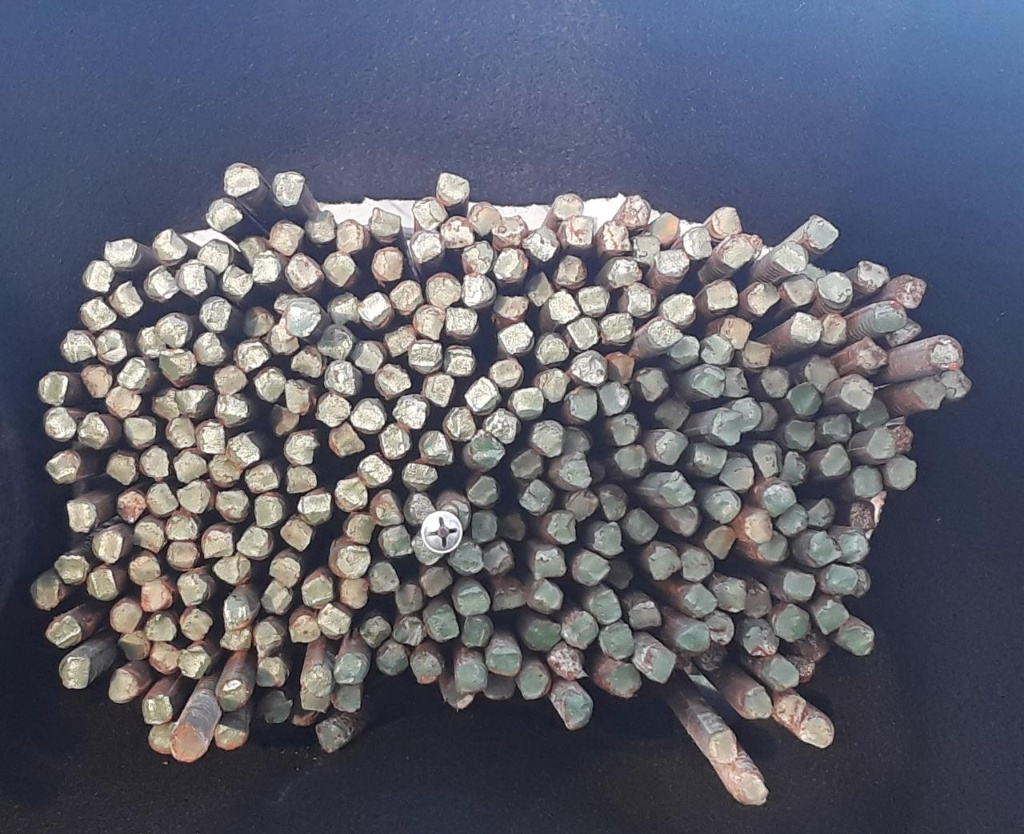dipstick: (548, 641, 586, 680), (171, 723, 208, 763), (469, 432, 506, 469), (288, 297, 322, 337), (442, 405, 478, 442), (464, 376, 500, 413), (527, 579, 564, 615), (562, 611, 598, 648), (152, 228, 188, 264), (572, 552, 609, 587), (807, 530, 842, 567), (158, 312, 193, 348), (523, 225, 558, 261), (521, 619, 561, 650), (322, 251, 357, 286), (172, 448, 207, 483), (393, 395, 428, 430), (199, 296, 233, 332), (46, 615, 82, 649), (255, 691, 291, 725), (283, 432, 319, 466), (420, 430, 454, 466), (601, 624, 635, 660), (776, 605, 810, 641), (626, 507, 659, 544), (562, 692, 594, 730), (223, 162, 258, 196), (286, 254, 321, 288), (319, 325, 354, 359), (329, 423, 364, 457), (426, 272, 460, 307), (519, 480, 553, 515), (269, 219, 302, 255), (237, 527, 273, 560), (571, 352, 607, 385), (644, 647, 677, 683), (773, 242, 809, 275), (806, 355, 839, 391), (485, 410, 522, 442), (461, 273, 495, 307), (661, 471, 695, 505), (177, 261, 210, 296), (194, 420, 227, 455), (217, 678, 250, 713), (180, 606, 213, 641), (278, 518, 313, 551), (319, 603, 352, 638), (337, 544, 370, 579), (518, 665, 551, 700), (655, 395, 690, 428), (712, 577, 745, 612), (800, 716, 835, 749), (835, 531, 870, 564), (747, 282, 780, 317), (930, 335, 963, 370), (207, 198, 243, 230), (649, 545, 681, 581), (705, 490, 741, 522), (816, 271, 852, 303), (78, 412, 109, 449), (272, 172, 305, 206), (199, 239, 232, 273), (215, 489, 248, 523), (328, 292, 361, 326), (351, 399, 385, 432), (495, 248, 528, 282), (175, 384, 210, 416), (391, 279, 423, 314), (535, 331, 570, 363), (108, 668, 139, 704), (333, 653, 369, 684), (427, 606, 458, 642), (373, 246, 404, 282), (610, 662, 641, 698), (717, 236, 753, 267), (214, 554, 251, 584), (599, 482, 627, 521), (624, 284, 657, 317), (534, 546, 567, 579), (721, 459, 754, 492), (194, 332, 226, 366), (176, 574, 208, 608), (335, 478, 367, 512), (358, 455, 392, 487), (445, 307, 479, 339), (413, 197, 447, 229), (436, 172, 470, 204), (561, 456, 593, 490), (613, 445, 647, 477), (816, 600, 848, 634), (782, 274, 816, 306), (841, 375, 873, 409), (325, 361, 356, 396), (411, 532, 442, 567), (532, 421, 563, 456), (591, 590, 622, 625), (160, 349, 196, 379), (498, 323, 534, 353), (111, 283, 143, 316), (178, 481, 210, 514), (210, 455, 242, 488), (228, 433, 260, 466), (301, 575, 334, 607), (410, 230, 443, 262), (567, 318, 599, 351), (601, 313, 634, 345), (694, 443, 727, 475), (692, 365, 725, 397), (61, 331, 95, 362), (96, 330, 127, 364), (47, 452, 81, 483), (59, 656, 90, 690), (298, 493, 332, 524), (377, 363, 411, 394), (414, 305, 445, 339), (441, 216, 475, 247), (470, 202, 501, 236), (511, 387, 545, 418), (705, 525, 736, 559), (656, 431, 687, 465), (215, 395, 250, 425), (493, 582, 528, 612), (676, 622, 711, 652), (938, 369, 973, 399), (254, 622, 282, 659), (44, 408, 76, 440), (410, 651, 442, 683), (764, 483, 796, 515), (855, 336, 887, 368), (118, 358, 151, 389), (92, 531, 123, 564), (255, 369, 286, 402), (317, 394, 350, 425), (461, 241, 492, 274), (539, 369, 570, 402), (556, 254, 587, 287), (578, 286, 611, 317), (856, 398, 889, 429), (29, 576, 59, 610), (245, 464, 279, 494), (235, 341, 269, 371), (374, 492, 404, 526), (381, 423, 411, 457), (489, 358, 523, 388), (662, 294, 696, 324), (222, 265, 254, 296), (136, 326, 167, 358), (37, 372, 68, 404), (66, 500, 97, 532), (179, 648, 211, 679), (261, 582, 292, 614), (393, 616, 425, 647), (452, 542, 484, 573), (424, 374, 455, 406), (681, 549, 713, 580), (791, 313, 822, 345), (147, 483, 177, 516), (594, 523, 624, 556), (752, 442, 782, 475), (731, 398, 761, 431), (105, 239, 139, 268), (54, 554, 88, 583), (223, 596, 252, 630), (610, 412, 639, 446), (745, 626, 779, 655), (713, 411, 742, 445), (82, 300, 117, 328), (111, 603, 142, 634), (142, 582, 173, 613), (461, 616, 492, 647), (637, 370, 668, 401), (778, 505, 809, 536), (789, 383, 820, 414), (139, 447, 169, 479), (133, 522, 165, 552), (167, 541, 199, 571), (377, 646, 409, 676), (385, 324, 417, 354), (371, 207, 401, 239), (549, 290, 579, 322), (740, 774, 770, 806), (784, 420, 816, 450), (808, 216, 838, 248), (215, 366, 248, 395), (128, 555, 161, 584), (383, 525, 412, 558), (457, 586, 490, 615), (404, 463, 438, 491), (337, 219, 365, 253), (655, 250, 689, 278), (668, 507, 702, 535), (83, 261, 113, 292), (81, 366, 111, 397), (87, 570, 117, 601), (253, 496, 283, 527), (303, 664, 333, 695), (347, 514, 377, 545), (421, 566, 452, 596), (564, 216, 595, 246), (769, 658, 799, 689), (826, 565, 856, 596), (853, 466, 883, 497), (702, 333, 733, 363), (915, 378, 945, 409), (116, 491, 145, 523), (141, 695, 173, 724), (360, 617, 392, 646), (455, 662, 487, 691), (467, 476, 499, 505), (567, 489, 596, 521), (686, 584, 715, 616), (758, 532, 790, 561), (821, 443, 850, 475), (888, 458, 917, 490), (252, 250, 280, 283), (492, 216, 525, 244), (600, 382, 628, 415), (709, 731, 737, 764), (526, 271, 553, 305), (608, 258, 642, 285), (653, 211, 680, 245), (570, 387, 597, 421), (872, 302, 906, 329), (290, 614, 320, 644), (269, 557, 299, 587), (339, 579, 369, 609), (360, 292, 390, 322), (444, 346, 474, 376), (722, 318, 752, 348), (243, 305, 272, 336), (370, 562, 399, 593), (485, 543, 514, 574), (603, 220, 632, 251), (668, 337, 699, 366), (845, 625, 874, 656), (867, 428, 896, 459), (707, 280, 738, 309), (306, 211, 334, 243), (108, 389, 140, 417), (484, 672, 516, 700), (798, 631, 830, 659), (808, 497, 836, 529), (215, 723, 248, 750), (409, 341, 442, 368), (625, 194, 652, 227), (629, 601, 662, 628), (761, 366, 788, 399), (165, 515, 199, 541), (647, 321, 681, 347), (166, 418, 195, 448), (332, 683, 362, 712), (444, 681, 473, 711), (497, 513, 527, 542), (512, 449, 542, 478), (683, 227, 712, 257), (124, 418, 155, 446), (150, 642, 178, 673), (441, 500, 469, 531), (355, 341, 382, 373), (900, 275, 927, 307), (745, 686, 771, 719), (783, 451, 808, 485), (107, 454, 135, 484), (153, 389, 181, 419), (203, 530, 233, 558), (714, 205, 742, 235), (822, 414, 852, 442), (147, 724, 174, 755), (118, 633, 149, 660), (146, 615, 177, 642), (396, 584, 423, 615), (783, 572, 814, 599), (285, 467, 317, 493), (495, 294, 528, 319), (708, 613, 733, 646), (286, 381, 310, 415), (632, 235, 661, 263), (604, 561, 633, 589), (846, 502, 875, 530), (858, 258, 886, 287), (743, 340, 771, 369), (292, 350, 322, 377), (549, 513, 576, 543), (608, 353, 634, 384), (258, 659, 286, 687), (270, 326, 298, 354), (270, 405, 299, 432), (745, 512, 772, 541), (823, 314, 848, 345), (315, 721, 339, 753), (473, 511, 497, 543), (488, 652, 521, 675), (563, 427, 590, 455), (724, 367, 749, 397), (554, 193, 583, 218), (300, 688, 330, 712), (220, 629, 252, 651), (240, 237, 266, 264), (891, 425, 913, 453), (759, 402, 779, 430), (406, 503, 432, 523), (274, 292, 299, 312)
